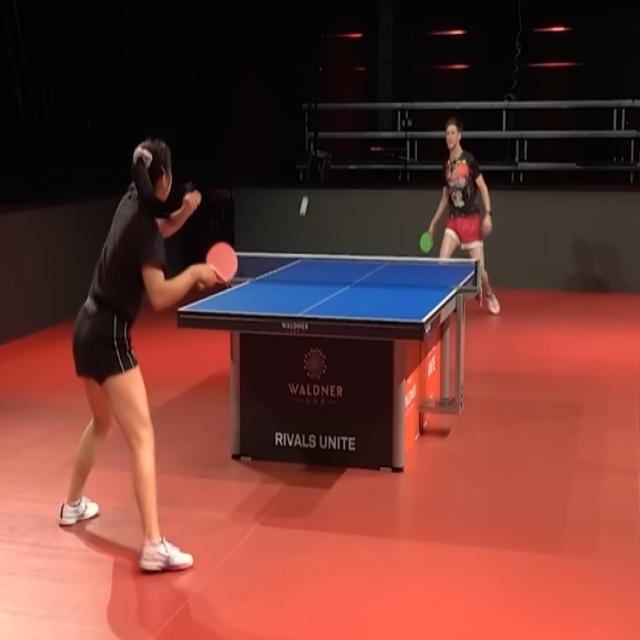TT Net: (226, 249, 480, 291)
TT Racket: (207, 240, 238, 285), (419, 231, 434, 254)
TT Table: (173, 246, 483, 330)
